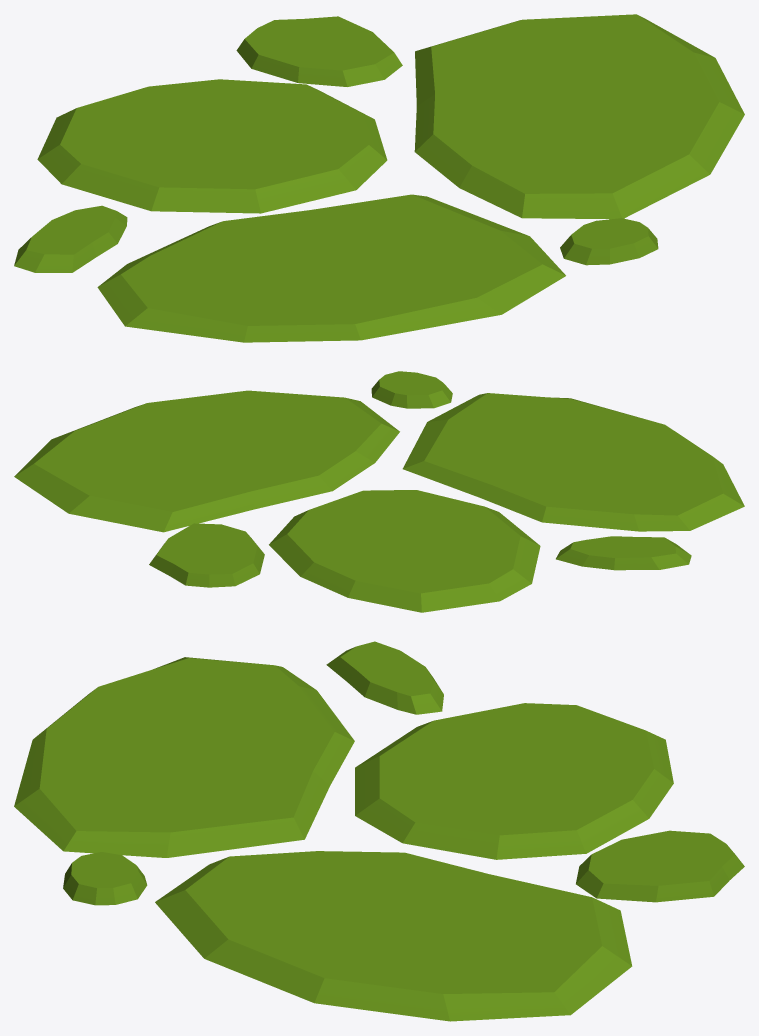
Rendered from Puddle_C.fbx.
The picture shows the model from 3 angles, top to bottom: view 1: azimuth 30°, elevation 25°; view 2: azimuth 150°, elevation 25°; view 3: azimuth 270°, elevation 25°; orthographic projection. The views are drawn at different scales.
Visible parts, largest first — view 1: Puddle_C; view 2: Puddle_C; view 3: Puddle_C.
Boxes of the visible parts, <box> form: Puddle_C: <box>14,14,744,342</box>; Puddle_C: <box>14,371,744,612</box>; Puddle_C: <box>14,641,744,1021</box>.
Size of the model in its own units: 86 by 1.56 by 70.79.
